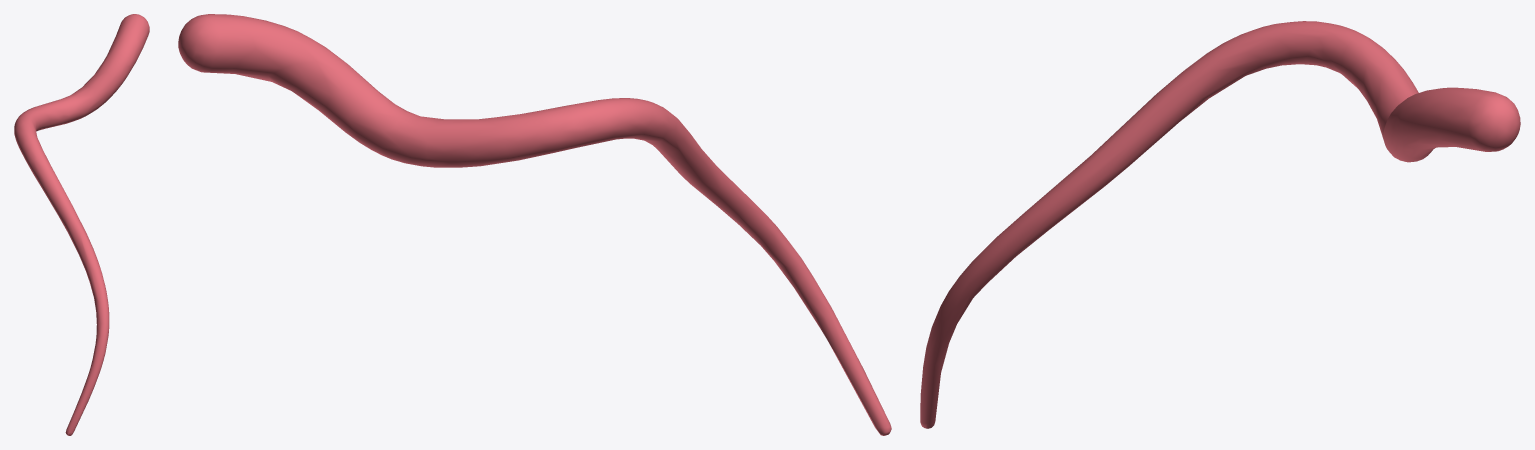
File: fma15429_fj3128.glb
The picture shows the model from 3 angles, left to right: view 1: azimuth 30°, elevation 25°; view 2: azimuth 150°, elevation 25°; view 3: azimuth 270°, elevation 25°; orthographic projection. The views are drawn at different scales.
Parts seen in each view (by area): view 1: FMA15429_FJ3128; view 2: FMA15429_FJ3128; view 3: FMA15429_FJ3128.
Boxes of the visible parts, <box> form: FMA15429_FJ3128: <box>14,14,149,435</box>; FMA15429_FJ3128: <box>178,14,891,435</box>; FMA15429_FJ3128: <box>920,21,1520,428</box>.
Size of the model in its own units: 0.0317 by 0.0364 by 0.0371.
